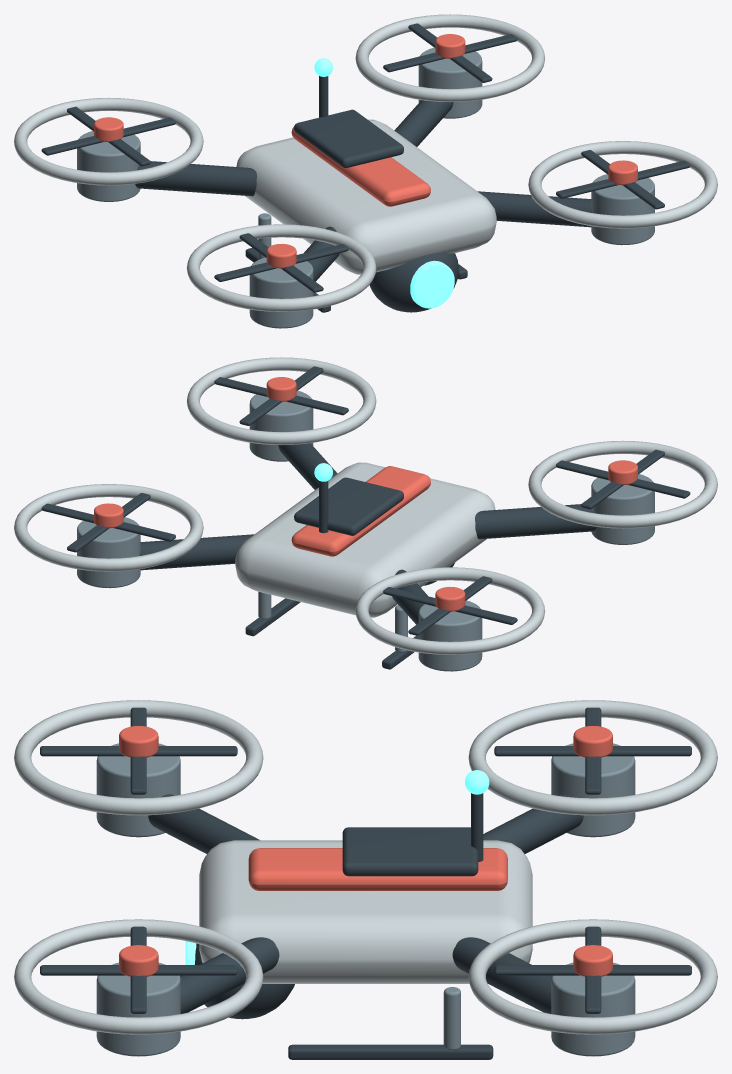
Rendered from recon.fbx.
3 views of the same model, one above another, from view 1: azimuth 30°, elevation 25°; view 2: azimuth 150°, elevation 25°; view 3: azimuth 270°, elevation 25° (orthographic). The views are drawn at different scales.
Parts seen in each view (by area): view 1: Sensor fuselage, Protective rotor ring.002, Protective rotor ring, Protective rotor ring.001, Protective rotor ring.003, Top panel, Team spine, Carbon outrigger.001, Motor housing, Motor housing.002, Motor housing.001, Gimbal body (+17 smaller); view 2: Sensor fuselage, Protective rotor ring.001, Protective rotor ring.003, Protective rotor ring, Protective rotor ring.002, Top panel, Team spine, Carbon outrigger, Motor housing.001, Motor housing.003, Motor housing, Motor housing.002 (+17 smaller); view 3: Sensor fuselage, Protective rotor ring.003, Protective rotor ring.002, Protective rotor ring, Protective rotor ring.001, Team spine, Top panel, Motor housing.002, Motor housing.003, Motor housing, Motor housing.001, Landing skid.001 (+19 smaller).
Part boxes in pixels (x1,y1,x2,y2): Sensor fuselage: [236, 119, 496, 274]; Protective rotor ring.002: [528, 141, 717, 228]; Protective rotor ring: [186, 224, 376, 311]; Protective rotor ring.001: [14, 97, 203, 185]; Protective rotor ring.003: [355, 14, 545, 102]; Top panel: [294, 109, 403, 167]; Team spine: [291, 126, 430, 206]; Carbon outrigger.001: [135, 161, 256, 196]; Motor housing: [249, 257, 313, 328]; Motor housing.002: [591, 174, 654, 245]; Motor housing.001: [77, 131, 140, 201]; Gimbal body: [369, 253, 458, 312]; Sensor fuselage: [235, 462, 495, 617]; Protective rotor ring.001: [355, 567, 545, 654]; Protective rotor ring.003: [14, 484, 203, 571]; Protective rotor ring: [528, 440, 717, 528]; Protective rotor ring.002: [186, 357, 376, 445]; Top panel: [294, 477, 403, 535]; Team spine: [291, 466, 430, 556]; Carbon outrigger: [475, 504, 596, 539]; Motor housing.001: [418, 600, 482, 671]; Motor housing.003: [77, 517, 140, 588]; Motor housing: [591, 474, 654, 544]; Motor housing.002: [249, 390, 313, 461]; Sensor fuselage: [199, 840, 532, 983]; Protective rotor ring.003: [468, 919, 717, 1034]; Protective rotor ring.002: [14, 919, 263, 1034]; Protective rotor ring: [14, 700, 263, 815]; Protective rotor ring.001: [468, 700, 717, 815]; Team spine: [248, 848, 507, 890]; Top panel: [342, 827, 478, 876]; Motor housing.002: [96, 962, 180, 1056]; Motor housing.003: [551, 962, 635, 1056]; Motor housing: [96, 743, 180, 837]; Motor housing.001: [551, 743, 635, 837]; Landing skid.001: [288, 1044, 493, 1059].
Bounding box in the file's own units: 311 × 108 × 285.
